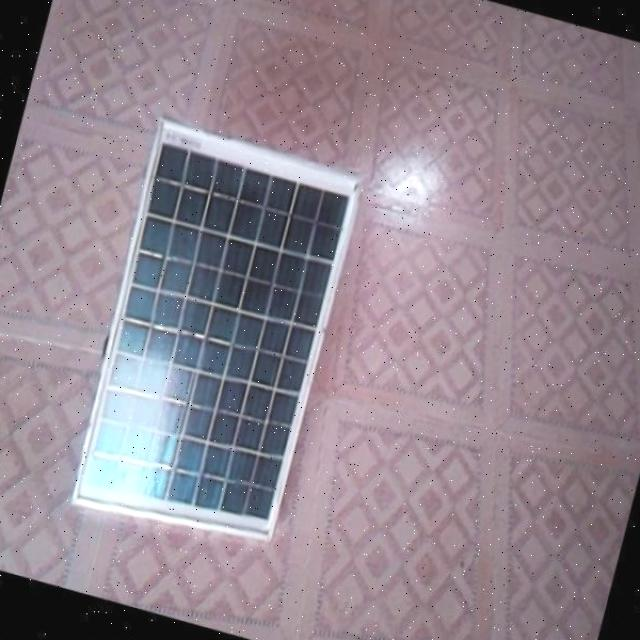Normal Solar Panel: (65, 121, 366, 563)
